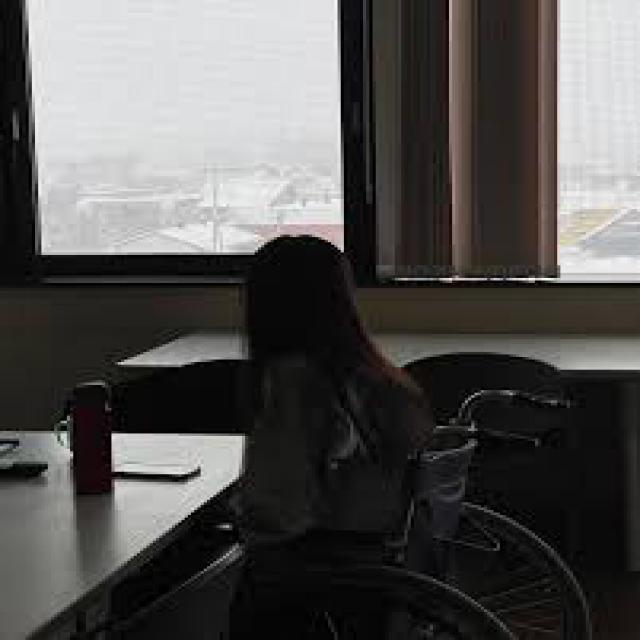wheelchairs: (210, 374, 615, 638)
